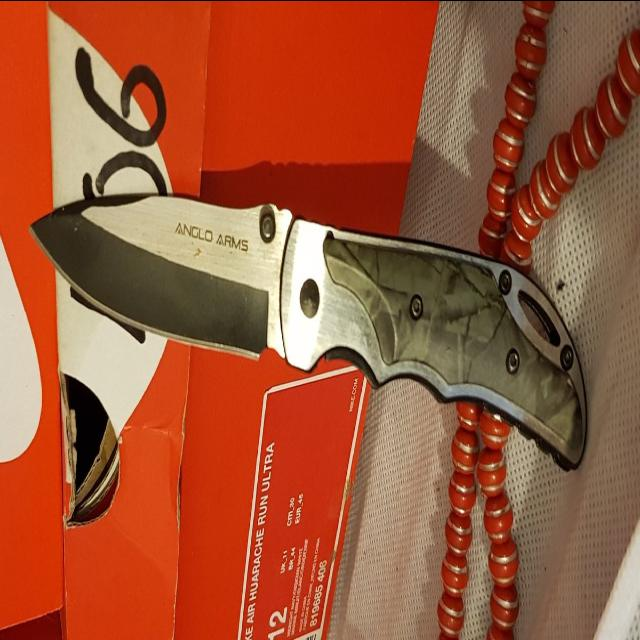Sharp-Object: (29, 196, 588, 466)
